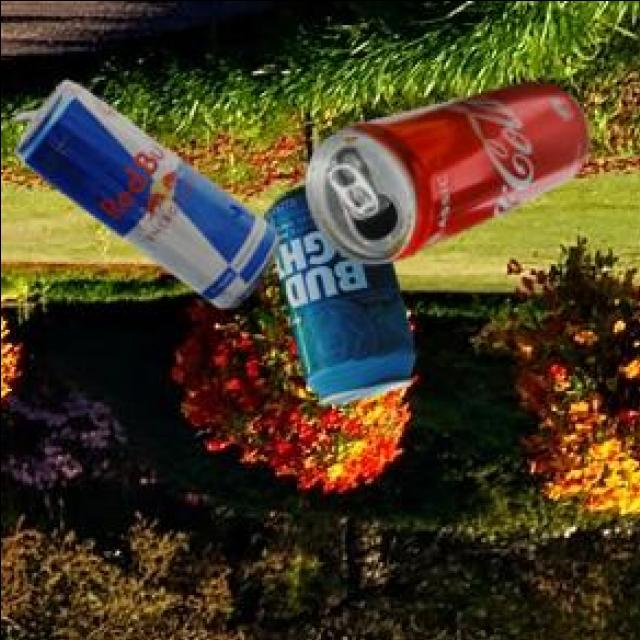logam: (14, 82, 282, 310), (308, 84, 591, 266), (266, 187, 418, 407)
